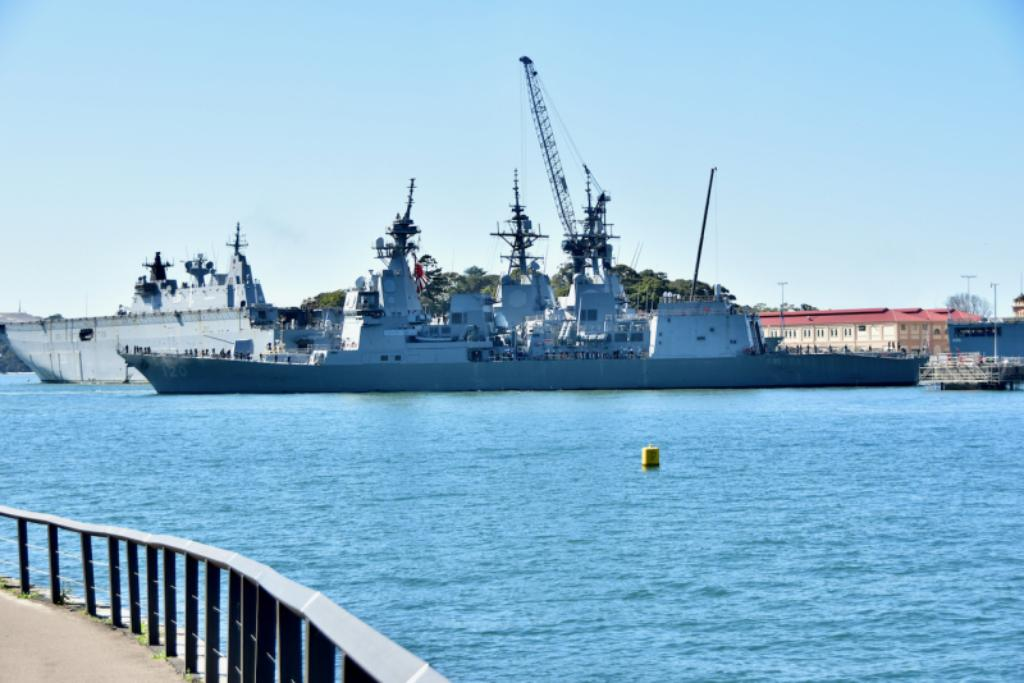Warship: (114, 170, 928, 396), (0, 203, 334, 389)
